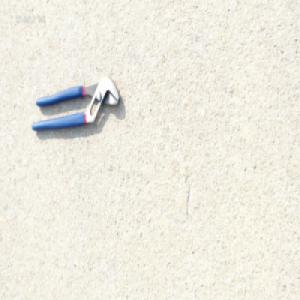Pliers: (30, 74, 120, 134)
